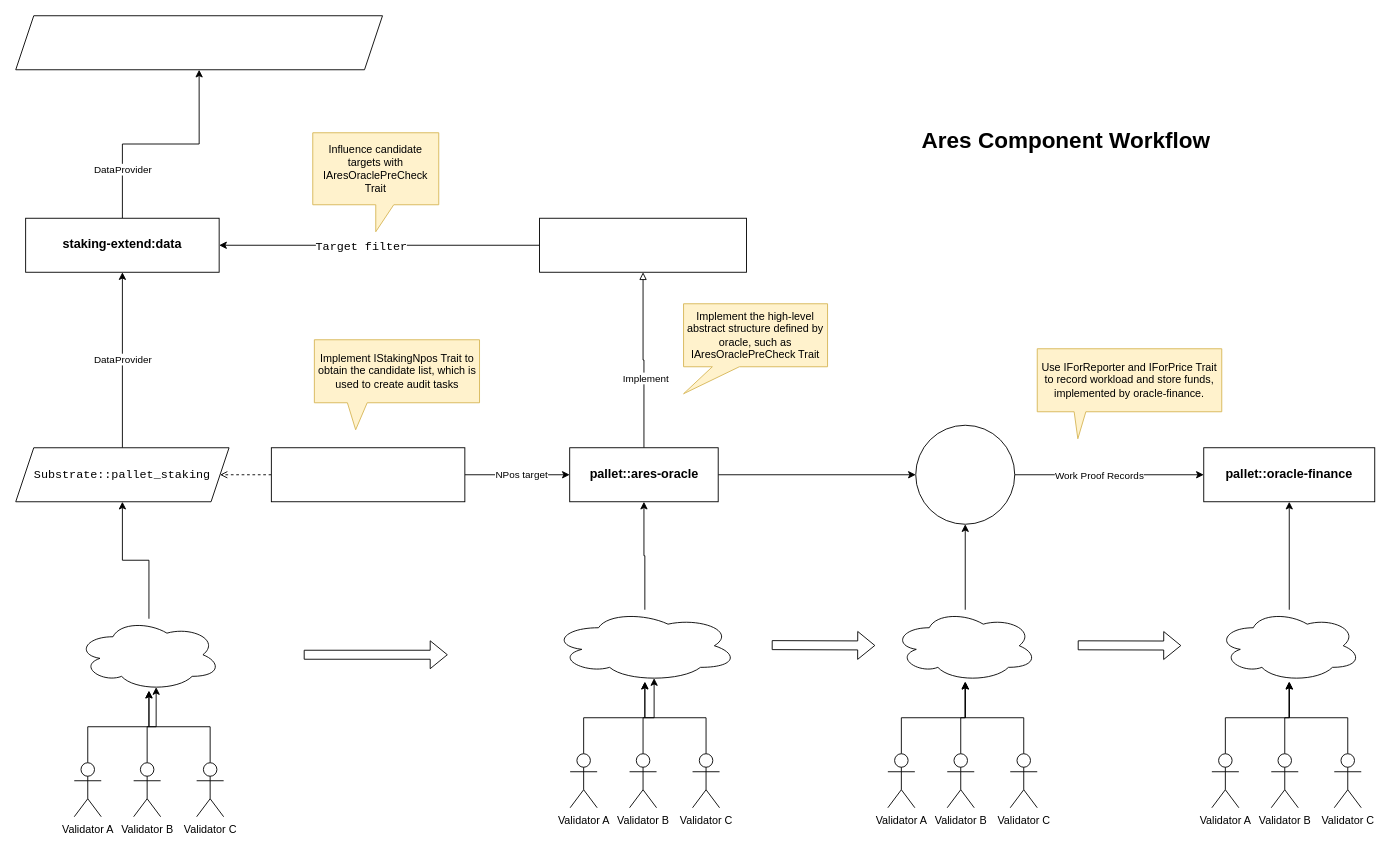
Image size: 1391x851. Some labels were removed from this diagram. Each missing label, with the centre of its shape:
Execute quotation work: (x=965, y=474)
oracle-provider-support: (x=643, y=244)
Setp1 Register validator: (x=148, y=654)
Setp2 Validator automatic audit: (x=644, y=645)
Setp3 Node work: (x=964, y=645)
Setp4 Get rewarded: (x=1288, y=645)
staking-extend::StakingNPOS: (x=367, y=474)
Substrate::pallet_election_provider_multi_phase: (x=198, y=42)
